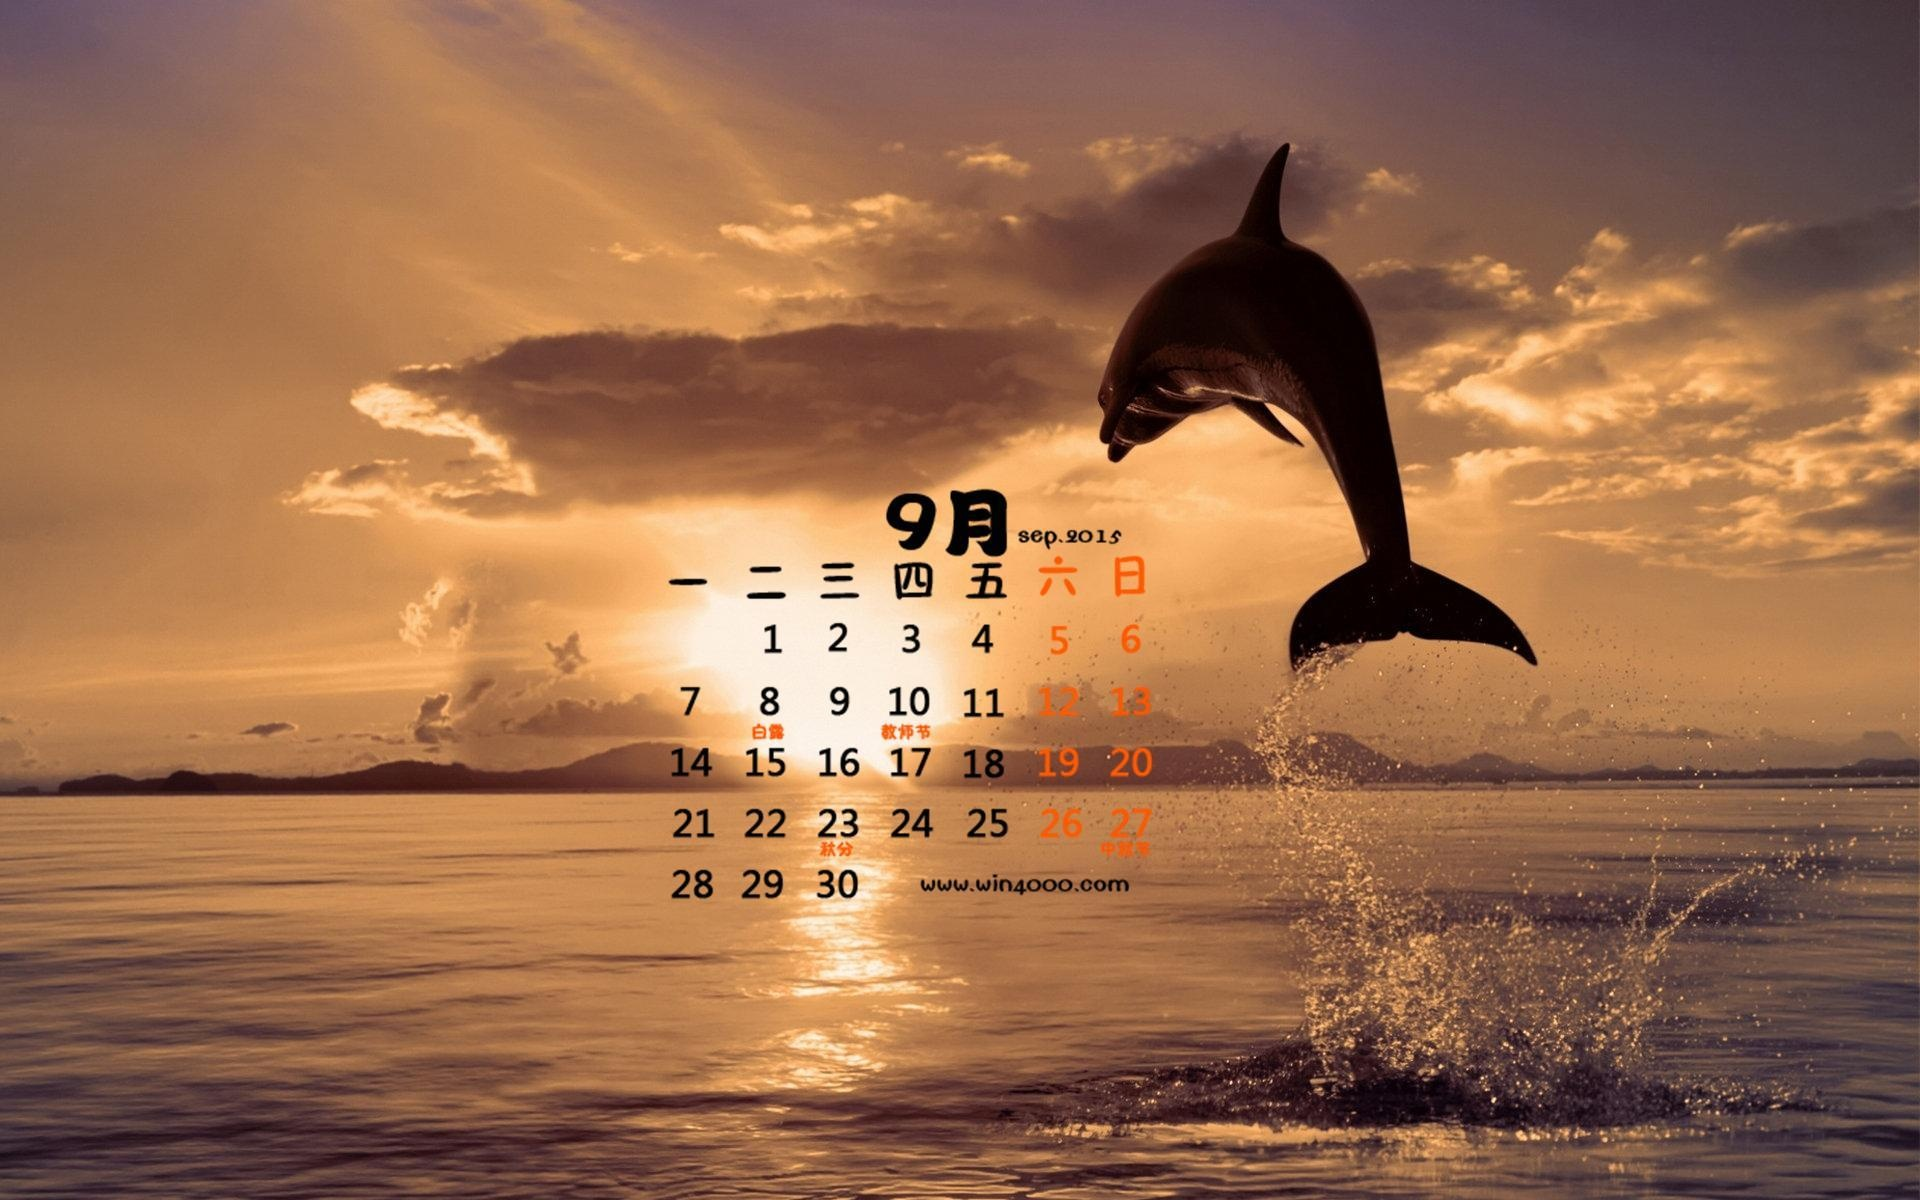fish: (1082, 138, 1559, 669)
